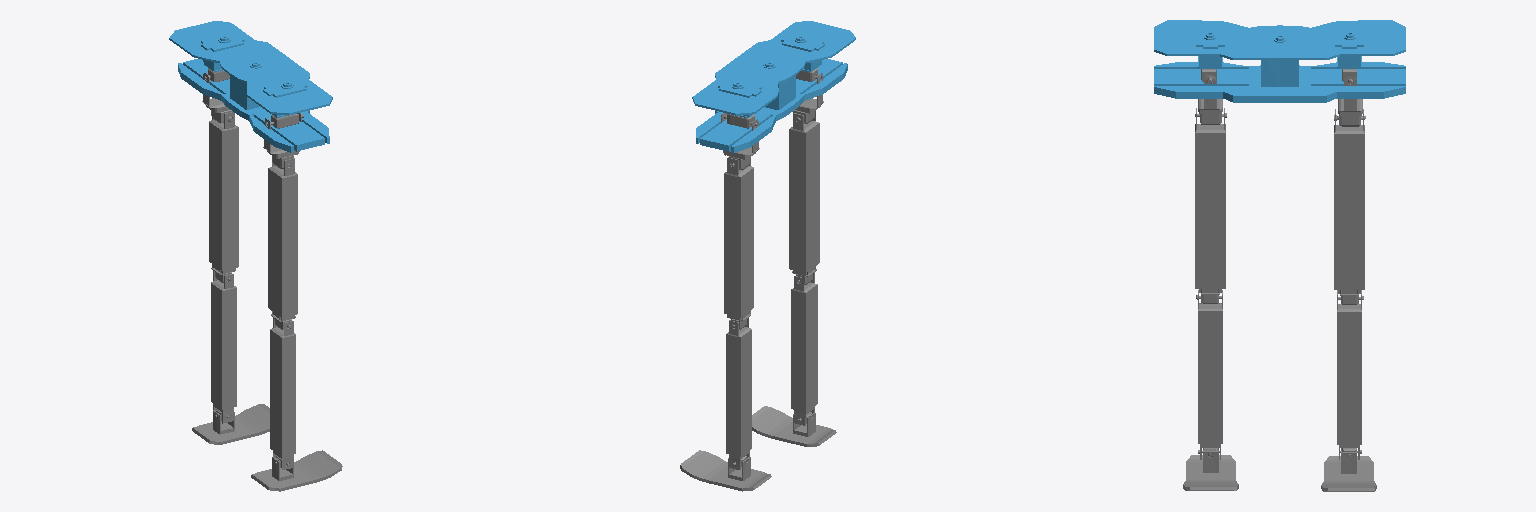
--- Facts derived from the render (not from the file) ---
Views: 3 orthographic renders of the robot side by side, from view 1: azimuth 30°, elevation 25°; view 2: azimuth 150°, elevation 25°; view 3: azimuth 270°, elevation 25°.
Robot: AmirMmv_BipedRobot_pkg — 17 links, 16 joints (10 revolute, 6 fixed); root link base_link; default pose: every joint at zero.
Links seen in each view (by area): view 1: base_footprint, r_hip_pitch_link, l_hip_pitch_link, l_knee_pitch_link, r_knee_pitch_link, r_ankle_roll_link, l_ankle_roll_link; view 2: base_footprint, r_hip_pitch_link, l_hip_pitch_link, r_knee_pitch_link, l_knee_pitch_link, l_ankle_roll_link, r_ankle_roll_link; view 3: base_footprint, r_hip_pitch_link, l_hip_pitch_link, r_knee_pitch_link, l_knee_pitch_link, l_ankle_roll_link, r_ankle_roll_link, l_hip_roll_link, r_hip_roll_link.
Link boxes in pixels (x1,y1,x2,y2): base_footprint: (169, 21, 332, 152); r_hip_pitch_link: (268, 158, 297, 329); l_hip_pitch_link: (209, 112, 238, 282); l_knee_pitch_link: (211, 271, 236, 423); r_knee_pitch_link: (270, 318, 295, 469); r_ankle_roll_link: (251, 450, 342, 491); l_ankle_roll_link: (192, 404, 269, 444); base_footprint: (692, 21, 855, 152); r_hip_pitch_link: (789, 111, 819, 284); l_hip_pitch_link: (724, 157, 753, 329); r_knee_pitch_link: (791, 273, 817, 425); l_knee_pitch_link: (726, 318, 751, 469); l_ankle_roll_link: (680, 450, 771, 491); r_ankle_roll_link: (752, 406, 836, 446); base_footprint: (1154, 20, 1405, 102); r_hip_pitch_link: (1195, 108, 1225, 303); l_hip_pitch_link: (1334, 109, 1364, 304); r_knee_pitch_link: (1198, 290, 1222, 459); l_knee_pitch_link: (1337, 290, 1361, 459); l_ankle_roll_link: (1321, 448, 1376, 491); r_ankle_roll_link: (1183, 448, 1238, 490); l_hip_roll_link: (1334, 77, 1365, 126); r_hip_roll_link: (1195, 75, 1226, 124).
Size in the robot's own frame: 0.1865 by 0.4313 by 0.8294 metres.
13 mesh visuals loaded from 13 distinct referenced files (13 binary STL).

The robot description file, URDF, robot "AmirMmv_BipedRobot_pkg":
<?xml version="1.0" ?>
<!-- =================================================================================== -->
<!-- |    This document was autogenerated by xacro from main_urdf.xacro                | -->
<!-- |    EDITING THIS FILE BY HAND IS NOT RECOMMENDED                                 | -->
<!-- =================================================================================== -->
<robot name="AmirMmv_BipedRobot_pkg">
  <material name="black">
    <color rgba="0.0 0.0 0.0 1.0"/>
  </material>
  <material name="blue">
    <color rgba="0.0 0.0 0.8 1.0"/>
  </material>
  <material name="green">
    <color rgba="0.0 0.8 0.0 1.0"/>
  </material>
  <material name="grey">
    <color rgba="0.6 0.6 0.6 1.0"/>
  </material>
  <material name="orange">
    <color rgba="1.0 0.4235294117647059 0.0392156862745098 1.0"/>
  </material>
  <material name="brown">
    <color rgba="0.8705882352941177 0.8117647058823529 0.7647058823529411 1.0"/>
  </material>
  <material name="red">
    <color rgba="0.8 0.0 0.0 1.0"/>
  </material>
  <material name="white">
    <color rgba="1.0 1.0 1.0 1.0"/>
  </material>
  <!-- ros_control plugin -->
  <gazebo>
    <plugin filename="libgazebo_ros_control.so" name="gazebo_ros_control">
      <robotNamespace>/amirmmv_bipedrobot_ns</robotNamespace>
    </plugin>
  </gazebo>
  <gazebo>
    <plugin filename="libgazebo_ros_p3d.so" name="ground_truth">
      <frameName>map</frameName>
      <bodyName>base_link</bodyName>
      <topicName>/amirmmv_bipedrobot_ns/odom</topicName>
      <updateRate>100.0</updateRate>
    </plugin>
  </gazebo>
  <!-- imu sensor -->
  <gazebo reference="imu_link">
    <gravity>true</gravity>
    <sensor name="imu_sensor" type="imu">
      <always_on>true</always_on>
      <update_rate>100</update_rate>
      <visualize>true</visualize>
      <topic>/amirmmv_bipedrobot_ns/Mysensor/imu</topic>
      <plugin filename="libgazebo_ros_imu_sensor.so" name="imu_plugin">
        <topicName>/amirmmv_bipedrobot_ns/Mysensor/imu</topicName>
        <bodyName>imu_link</bodyName>
        <updateRateHZ>10.0</updateRateHZ>
        <gaussianNoise>0.0</gaussianNoise>
        <xyzOffset>0 0 0</xyzOffset>
        <rpyOffset>0 0 0</rpyOffset>
        <frameName>imu_link</frameName>
      </plugin>
      <pose>0 0 0 0 0 0</pose>
    </sensor>
  </gazebo>
  <!-- World -->
  <gazebo reference="world"/>
  <!-- Map -->
  <gazebo reference="map"/>
  <!-- Base -->
  <gazebo reference="base_link"/>
  <!-- IMU -->
  <gazebo reference="imu_link"/>
  <!-- Body-->
  <gazebo reference="base_footprint">
    <mu1>0.2</mu1>
    <mu2>0.2</mu2>
    <material>Gazebo/Red</material>
    <selfCollide>false</selfCollide>
  </gazebo>
  <!-- Left Leg -->
  <gazebo reference="l_hip_yaw_link">
    <mu1>0.2</mu1>
    <mu2>0.2</mu2>
    <material>Gazebo/Grey</material>
    <selfCollide>false</selfCollide>
  </gazebo>
  <gazebo reference="l_hip_roll_link">
    <mu1>0.2</mu1>
    <mu2>0.2</mu2>
    <material>Gazebo/Grey</material>
    <selfCollide>false</selfCollide>
  </gazebo>
  <gazebo reference="l_hip_pitch_link">
    <mu1>0.2</mu1>
    <mu2>0.2</mu2>
    <material>Gazebo/Grey</material>
    <selfCollide>false</selfCollide>
  </gazebo>
  <gazebo reference="l_knee_pitch_link">
    <mu1>0.2</mu1>
    <mu2>0.2</mu2>
    <material>Gazebo/Grey</material>
    <selfCollide>false</selfCollide>
  </gazebo>
  <gazebo reference="l_ankle_pitch_link">
    <mu1>0.2</mu1>
    <mu2>0.2</mu2>
    <material>Gazebo/Blue</material>
    <selfCollide>false</selfCollide>
  </gazebo>
  <gazebo reference="l_ankle_roll_link">
    <!--  Edited -->
    <kp>100000.0</kp>
    <kd>100.0</kd>
    <collision names="collision_l_ankle_roll_link">
      <surface>
        <friction>
          <ode>
            <mu>0.7</mu>
            <mu2>0.7</mu2>
          </ode>
        </friction>
      </surface>
    </collision>
    <!--  Edited <mu1>1.5</mu1> -->
    <!--  Edited <mu2>1.5</mu2> -->
    <!--<maxContacts>30</maxContacts>-->
    <fdir1>1 1 0</fdir1>
    <maxVel>1.0</maxVel>
    <minDepth>0.001</minDepth>
    <material>Gazebo/Red</material>
  </gazebo>
  <!-- Right Leg -->
  <gazebo reference="r_hip_yaw_link">
    <mu1>0.2</mu1>
    <mu2>0.2</mu2>
    <material>Gazebo/Grey</material>
    <selfCollide>false</selfCollide>
  </gazebo>
  <gazebo reference="r_hip_roll_link">
    <mu1>0.2</mu1>
    <mu2>0.2</mu2>
    <material>Gazebo/Grey</material>
    <selfCollide>false</selfCollide>
  </gazebo>
  <gazebo reference="r_hip_pitch_link">
    <mu1>0.2</mu1>
    <mu2>0.2</mu2>
    <material>Gazebo/Grey</material>
    <selfCollide>false</selfCollide>
  </gazebo>
  <gazebo reference="r_knee_pitch_link">
    <mu1>0.2</mu1>
    <mu2>0.2</mu2>
    <material>Gazebo/Grey</material>
    <selfCollide>false</selfCollide>
  </gazebo>
  <gazebo reference="r_ankle_pitch_link">
    <mu1>0.2</mu1>
    <mu2>0.2</mu2>
    <material>Gazebo/Blue</material>
    <selfCollide>false</selfCollide>
  </gazebo>
  <gazebo reference="r_ankle_roll_link">
    <collision names="collision_l_ankle_roll_link">
      <surface>
        <friction>
          <ode>
            <mu>0.7</mu>
            <mu2>0.7</mu2>
          </ode>
        </friction>
      </surface>
    </collision>
    <kp>100000.0</kp>
    <kd>100.0</kd>
    <!--  Edited <mu1>1.5</mu1> -->
    <!--  Edited <mu2>1.5</mu2> -->
    <!--<maxContacts>30</maxContacts>-->
    <fdir1>1 1 0</fdir1>
    <maxVel>1.0</maxVel>
    <minDepth>0.0001</minDepth>
    <material>Gazebo/Red</material>
  </gazebo>
  <!--   ********** Contact sensors***********    -->
  <gazebo reference="l_ankle_roll_link">
    <sensor name="contact_l_foot_Amir" type="contact">
      <alwaysOn>true</alwaysOn>
      <update_rate>20.000000</update_rate>
      <contact>
        <collision>
          <origin rpy="0 0 0" xyz="0 0 0"/>
          <geometry>
            <mesh filename="package://amirmmv_bipedrobot_pkg/meshes/l_ankle_roll.stl" scale="1 1 1"/>
          </geometry>
          <material name="grey"/>
        </collision>
        <topic>/l_foot_contact_sensor</topic>
      </contact>
      <plugin filename="libgazebo_ros_bumper.so" name="gazebo_ros_bumper_controller">
        <bumperTopicName>l_bumper_topic</bumperTopicName>
        <frameName>l_frameName</frameName>
      </plugin>
    </sensor>
  </gazebo>
  <gazebo reference="r_ankle_roll_link">
    <sensor name="contact_r_foot_Amir" type="contact">
      <alwaysOn>true</alwaysOn>
      <selfCollide>true</selfCollide>
      <update_rate>20.000000</update_rate>
      <contact>
        <collision>
          <origin rpy="0 0 0" xyz="0 0 0"/>
          <geometry>
            <mesh filename="package://amirmmv_bipedrobot_pkg/meshes/r_ankle_pitch.stl" scale="1 1 1"/>
          </geometry>
          <material name="grey"/>
        </collision>
        <topic>/r_foot_contact_sensor</topic>
      </contact>
      <plugin filename="libgazebo_ros_bumper.so" name="gazebo_ros_bumper_controller">
        <bumperTopicName>r_bumper_topic</bumperTopicName>
        <frameName>r_frameName</frameName>
      </plugin>
    </sensor>
  </gazebo>
  <link name="base_link"/>
  <joint name="base_fixed" type="fixed">
    <origin rpy="0 0 0" xyz="0 0 0.1"/>
    <parent link="base_link"/>
    <child link="base_footprint"/>
  </joint>
  <!-- base_link -->
  <link name="base_footprint">
    <visual>
      <origin rpy="0 0 0" xyz="0 0 0"/>
      <geometry>
        <mesh filename="package://amirmmv_bipedrobot_pkg/meshes/base.stl" scale="1 1.25 1"/>
      </geometry>
      <material name="gray"/>
    </visual>
    <collision>
      <origin rpy="0 0 0" xyz="0 0 0"/>
      <geometry>
        <mesh filename="package://amirmmv_bipedrobot_pkg/meshes/base.stl" scale="1 1.25 1"/>
      </geometry>
      <material name="gray"/>
    </collision>
    <inertial>
      <origin xyz="-0.00856879 0.00000000 -0.02356598"/>
      <mass value="0.664564"/>
      <inertia ixx="0.00504324" ixy="-0.00000002" ixz="-0.00000358" iyy="0.00051942" iyz="0.00000000" izz="0.00510248"/>
    </inertial>
  </link>
  <!-- imu joint  -->
  <joint name="imu_fixed" type="fixed">
    <origin rpy="0 0 0" xyz="0 0 0.45"/>
    <parent link="base_footprint"/>
    <child link="imu_link"/>
  </joint>
  <link name="imu_link"/>
  <!-- right hip yaw joint 0.0 -0.09 -0.073 -->
  <joint name="r_hip_yaw_joint" type="fixed">
    <axis xyz="0 0 1"/>
    <origin rpy="0 0 -1.570796327" xyz="0.0 -0.09 -0.118"/>
    <parent link="base_footprint"/>
    <child link="r_hip_yaw_link"/>
    <!--            <limit effort="${dxl_effort}" lower="${-0.8}" upper="${0.8}" velocity="${dxl_speed}"/>
           <dynamics damping="0.01" friction="0.1"/>
-->
  </joint>
  <!--        <xacro:insert_transmission name="r_hip_yaw_joint"/>
-->
  <!-- right hip yaw link -->
  <link name="r_hip_yaw_link">
    <visual>
      <origin rpy="0 0 0" xyz="0 0 0"/>
      <geometry>
        <mesh filename="package://amirmmv_bipedrobot_pkg/meshes/r_hip_yaw.stl" scale="1 1 1"/>
      </geometry>
      <material name="grey"/>
    </visual>
    <collision>
      <origin rpy="0 0 0" xyz="0 0 0"/>
      <geometry>
        <mesh filename="package://amirmmv_bipedrobot_pkg/meshes/r_hip_yaw.stl" scale="1 1 1"/>
      </geometry>
      <material name="grey"/>
    </collision>
    <inertial>
      <origin xyz="0.00000000 -0.01999 -0.00735017"/>
      <mass value="0.090718"/>
      <inertia ixx="0.00014114" ixy="0.00000000" ixz="0.00000000" iyy="0.00002016" iyz="0.00000000" izz="0.00014272"/>
    </inertial>
  </link>
  <!-- right hip roll joint 0.0285 0.005 0.0487 -->
  <joint name="r_hip_roll_joint" type="revolute">
    <axis xyz="0 0 1"/>
    <origin rpy="1.570796327 0 3.141592654" xyz="0.0285 -0.005 0.0537"/>
    <parent link="r_hip_yaw_link"/>
    <child link="r_hip_roll_link"/>
    <limit effort="10" lower="-0.5" upper="0.5" velocity="2"/>
    <dynamics damping="0.01" friction="0.1"/>
  </joint>
  <transmission name="r_hip_roll_joint_tran">
    <type>transmission_interface/SimpleTransmission</type>
    <joint name="r_hip_roll_joint">
      <hardwareInterface>hardware_interface/EffortJointInterface</hardwareInterface>
    </joint>
    <actuator name="r_hip_roll_joint_motor">
      <hardwareInterface>EffortJointInterface</hardwareInterface>
      <mechanicalReduction>1</mechanicalReduction>
    </actuator>
  </transmission>
  <!-- right hip roll link -->
  <link name="r_hip_roll_link">
    <visual>
      <origin rpy="0 0 0" xyz="0 0 0"/>
      <geometry>
        <mesh filename="package://amirmmv_bipedrobot_pkg/meshes/r_hip_roll.stl" scale="1 1 1"/>
      </geometry>
      <material name="grey"/>
    </visual>
    <collision>
      <origin rpy="0 0 0" xyz="0 0 0"/>
      <geometry>
        <mesh filename="package://amirmmv_bipedrobot_pkg/meshes/r_hip_roll.stl" scale="1 1 1"/>
      </geometry>
      <material name="grey"/>
    </collision>
    <inertial>
      <origin xyz="-0.00005878 -0.01433229 -0.01958936"/>
      <mass value="0.342"/>
      <inertia ixx="0.00033963" ixy="0.00000054" ixz="-0.00000042" iyy="0.00029059" iyz="0.00001145" izz="0.00015024"/>
    </inertial>
  </link>
  <!-- right hip pitch joint 0 -0.084 0.0060 -->
  <joint name="r_hip_pitch_joint" type="revolute">
    <axis xyz="0 0 1"/>
    <origin rpy="-1.570796327 0 -1.570796327" xyz="0 -0.084 0.0000"/>
    <parent link="r_hip_roll_link"/>
    <child link="r_hip_pitch_link"/>
    <limit effort="10" lower="-1.396" upper="1.396" velocity="2"/>
    <dynamics damping="0.01" friction="0.1"/>
  </joint>
  <transmission name="r_hip_pitch_joint_tran">
    <type>transmission_interface/SimpleTransmission</type>
    <joint name="r_hip_pitch_joint">
      <hardwareInterface>hardware_interface/EffortJointInterface</hardwareInterface>
    </joint>
    <actuator name="r_hip_pitch_joint_motor">
      <hardwareInterface>EffortJointInterface</hardwareInterface>
      <mechanicalReduction>1</mechanicalReduction>
    </actuator>
  </transmission>
  <!-- right hip pitch link -->
  <link name="r_hip_pitch_link">
    <visual>
      <origin rpy="0 0 0" xyz="0 0 0"/>
      <geometry>
        <mesh filename="package://amirmmv_bipedrobot_pkg/meshes/r_hip_pitch.stl" scale="1 1 1"/>
      </geometry>
      <material name="grey"/>
    </visual>
    <collision>
      <origin rpy="0 0 0" xyz="0 0 0"/>
      <geometry>
        <mesh filename="package://amirmmv_bipedrobot_pkg/meshes/r_hip_pitch.stl" scale="1 1 1"/>
      </geometry>
      <material name="grey"/>
    </collision>
    <inertial>
      <origin xyz="0.21422113 0.0 0.0"/>
      <mass value="0.33732478"/>
      <inertia ixx="0.00012533" ixy="0.00000000" ixz="0.00000079" iyy="0.00295762" iyz="0.00000000" izz="0.00291401"/>
    </inertial>
  </link>
  <!-- right knee pitch joint 0.34 0 0 -->
  <joint name="r_knee_pitch_joint" type="revolute">
    <axis xyz="0 0 1"/>
    <origin rpy="0 0 0" xyz="0.34 0 0"/>
    <parent link="r_hip_pitch_link"/>
    <child link="r_knee_pitch_link"/>
    <limit effort="10" lower="0.0" upper="1.4" velocity="2"/>
    <dynamics damping="0.01" friction="0.1"/>
  </joint>
  <transmission name="r_knee_pitch_joint_tran">
    <type>transmission_interface/SimpleTransmission</type>
    <joint name="r_knee_pitch_joint">
      <hardwareInterface>hardware_interface/EffortJointInterface</hardwareInterface>
    </joint>
    <actuator name="r_knee_pitch_joint_motor">
      <hardwareInterface>EffortJointInterface</hardwareInterface>
      <mechanicalReduction>1</mechanicalReduction>
    </actuator>
  </transmission>
  <!-- right knee pitch link -->
  <link name="r_knee_pitch_link">
    <visual>
      <origin rpy="0 0 0" xyz="0 0 0"/>
      <geometry>
        <mesh filename="package://amirmmv_bipedrobot_pkg/meshes/r_knee_pitch.stl" scale="1 1 1"/>
      </geometry>
      <material name="grey"/>
    </visual>
    <collision>
      <origin rpy="0 0 0" xyz="0 0 0"/>
      <geometry>
        <mesh filename="package://amirmmv_bipedrobot_pkg/meshes/r_knee_pitch.stl" scale="1 1 1"/>
      </geometry>
      <material name="grey"/>
    </collision>
    <inertial>
      <origin xyz="0.16288151 0.00000000 0.00000000"/>
      <mass value="0.15100000"/>
      <inertia ixx="0.0000634" ixy="0.0" ixz="0.0" iyy="0.00139615" iyz="0.0" izz="0.00136734"/>
    </inertial>
  </link>
  <!-- right ankle pitch joint 0.28 0 0 -->
  <joint name="r_ankle_pitch_joint" type="revolute">
    <axis xyz="0 0 1"/>
    <origin rpy="0 0 0" xyz="0.3 0 0"/>
    <parent link="r_knee_pitch_link"/>
    <child link="r_ankle_pitch_link"/>
    <limit effort="10" lower="-0.349" upper="1.047" velocity="2"/>
    <dynamics damping="0.01" friction="0.1"/>
  </joint>
  <transmission name="r_ankle_pitch_joint_tran">
    <type>transmission_interface/SimpleTransmission</type>
    <joint name="r_ankle_pitch_joint">
      <hardwareInterface>hardware_interface/EffortJointInterface</hardwareInterface>
    </joint>
    <actuator name="r_ankle_pitch_joint_motor">
      <hardwareInterface>EffortJointInterface</hardwareInterface>
      <mechanicalReduction>1</mechanicalReduction>
    </actuator>
  </transmission>
  <!-- right ankle pitch link -->
  <link name="r_ankle_pitch_link">
    <visual>
      <origin rpy="0 0 0" xyz="0 0 0"/>
      <geometry>
        <mesh filename="package://amirmmv_bipedrobot_pkg/meshes/r_ankle_pitch.stl" scale="1 1 1"/>
      </geometry>
      <material name="grey"/>
    </visual>
    <collision>
      <origin rpy="0 0 0" xyz="0 0 0"/>
      <geometry>
        <mesh filename="package://amirmmv_bipedrobot_pkg/meshes/r_ankle_pitch.stl" scale="1 1 1"/>
      </geometry>
      <material name="grey"/>
    </collision>
    <inertial>
      <origin xyz="-0.01433229 0.01958936 0.00005878"/>
      <mass value="0.342"/>
      <inertia ixx="0.00029059" ixy="-0.00001145" ixz="-0.00000054" iyy="0.00015024" iyz="-0.00000042" izz="0.00033963"/>
    </inertial>
  </link>
  <!-- right ankle roll  0.01 0 0 -->
  <joint name="r_ankle_roll_joint" type="revolute">
    <axis xyz="0 0 1"/>
    <origin rpy="1.570796327 0 0" xyz="-0.01 0 0"/>
    <parent link="r_ankle_pitch_link"/>
    <child link="r_ankle_roll_link"/>
    <limit effort="10" lower="-0.5" upper="0.5" velocity="2"/>
    <dynamics damping="0.01" friction="0.1"/>
  </joint>
  <transmission name="r_ankle_roll_joint_tran">
    <type>transmission_interface/SimpleTransmission</type>
    <joint name="r_ankle_roll_joint">
      <hardwareInterface>hardware_interface/EffortJointInterface</hardwareInterface>
    </joint>
    <actuator name="r_ankle_roll_joint_motor">
      <hardwareInterface>EffortJointInterface</hardwareInterface>
      <mechanicalReduction>1</mechanicalReduction>
    </actuator>
  </transmission>
  <!-- right ankle roll link -->
  <link name="r_ankle_roll_link">
    <visual>
      <origin rpy="0 0 0" xyz="0 0 0"/>
      <geometry>
        <mesh filename="package://amirmmv_bipedrobot_pkg/meshes/r_ankle_roll.stl" scale="1 1 1"/>
      </geometry>
      <material name="grey"/>
    </visual>
    <collision>
      <origin rpy="0 0 0" xyz="0 0 0"/>
      <geometry>
        <mesh filename="package://amirmmv_bipedrobot_pkg/meshes/r_ankle_roll.stl" scale="1 1 1"/>
      </geometry>
      <material name="grey"/>
    </collision>
    <inertial>
      <origin xyz="0.03627101 -0.00000116 0.00053793"/>
      <mass value="0.155"/>
      <inertia ixx="0.00052206" ixy="0" ixz="0.00001" iyy="0.00047025" iyz="0" izz="0.00009087"/>
    </inertial>
  </link>
  <!-- right ft fixed joint -->
  <joint name="r_ft_fixed" type="fixed">
    <origin rpy="0 -1.570796327 0" xyz="0.045 0.0 0.0"/>
    <parent link="r_ankle_roll_link"/>
    <child link="r_foot_ft_link"/>
  </joint>
  <!-- right foot ft link -->
  <link name="r_foot_ft_link"/>
  <!-- left hip yaw joint -->
  <joint name="l_hip_yaw_joint" type="fixed">
    <axis xyz="0 0 1"/>
    <origin rpy="0 0 1.570796327" xyz="0.0 0.09 -0.108"/>
    <parent link="base_footprint"/>
    <child link="l_hip_yaw_link"/>
  </joint>
  <!-- left hip yaw link -->
  <link name="l_hip_yaw_link">
    <visual>
      <origin rpy="0 0 0" xyz="0 0 0"/>
      <geometry>
        <mesh filename="package://amirmmv_bipedrobot_pkg/meshes/l_hip_yaw.stl" scale="1 1 1"/>
      </geometry>
      <material name="grey"/>
    </visual>
    <collision>
      <origin rpy="0 0 0" xyz="0 0 0"/>
      <geometry>
        <mesh filename="package://amirmmv_bipedrobot_pkg/meshes/l_hip_yaw.stl" scale="1 1 1"/>
      </geometry>
      <material name="grey"/>
    </collision>
    <inertial>
      <origin xyz="0 0.01999 -0.00735017"/>
      <mass value="0.090718"/>
      <inertia ixx="0.00014114" ixy="0.0" ixz="0.0" iyy="0.00002016" iyz="0.0" izz="0.00014272"/>
    </inertial>
  </link>
  <!-- left hip roll joint-->
  <joint name="l_hip_roll_joint" type="revolute">
    <axis xyz="0 0 1"/>
    <origin rpy="1.570796327 0 0" xyz="0.0285 0.005 0.0450"/>
    <parent link="l_hip_yaw_link"/>
    <child link="l_hip_roll_link"/>
    <limit effort="10" lower="-0.5" upper="0.5" velocity="2"/>
    <dynamics damping="0.01" friction="0.1"/>
  </joint>
  <transmission name="l_hip_roll_joint_tran">
    <type>transmission_interface/SimpleTransmission</type>
    <joint name="l_hip_roll_joint">
      <hardwareInterface>hardware_interface/EffortJointInterface</hardwareInterface>
    </joint>
    <actuator name="l_hip_roll_joint_motor">
      <hardwareInterface>EffortJointInterface</hardwareInterface>
      <mechanicalReduction>1</mechanicalReduction>
    </actuator>
  </transmission>
  <!-- left hip roll link -->
  <link name="l_hip_roll_link">
    <visual>
      <origin rpy="0 0 0" xyz="0 0 0"/>
      <geometry>
        <mesh filename="package://amirmmv_bipedrobot_pkg/meshes/l_hip_roll.stl" scale="1 1 1"/>
      </geometry>
      <material name="grey"/>
    </visual>
    <collision>
      <origin rpy="0 0 0" xyz="0 0 0"/>
      <geometry>
        <mesh filename="package://amirmmv_bipedrobot_pkg/meshes/l_hip_roll.stl" scale="1 1 1"/>
      </geometry>
      <material name="grey"/>
    </collision>
    <inertial>
      <origin xyz="-0.00005878 -0.01433229 -0.01958936"/>
      <mass value="0.342"/>
      <inertia ixx="0.00033963" ixy="0.00000054" ixz="-0.00000042" iyy="0.00029059" iyz="0.00001145" izz="0.00015024"/>
    </inertial>
  </link>
  <!-- left hip pitch joint -->
  <joint name="l_hip_pitch_joint" type="revolute">
    <axis xyz="0 0 1"/>
    <origin rpy="-1.570796327 0 -1.570796327" xyz="0 -0.084 0.0060"/>
    <parent link="l_hip_roll_link"/>
    <child link="l_hip_pitch_link"/>
    <limit effort="10" lower="-1.396" upper="1.396" velocity="2"/>
    <dynamics damping="0.01" friction="0.1"/>
  </joint>
  <transmission name="l_hip_pitch_joint_tran">
    <type>transmission_interface/SimpleTransmission</type>
    <joint name="l_hip_pitch_joint">
      <hardwareInterface>hardware_interface/EffortJointInterface</hardwareInterface>
    </joint>
    <actuator name="l_hip_pitch_joint_motor">
      <hardwareInterface>EffortJointInterface</hardwareInterface>
      <mechanicalReduction>1</mechanicalReduction>
    </actuator>
  </transmission>
  <!-- left hip pitch link -->
  <link name="l_hip_pitch_link">
    <visual>
      <origin rpy="0 0 0" xyz="0 0 0"/>
      <geometry>
        <mesh filename="package://amirmmv_bipedrobot_pkg/meshes/l_hip_pitch.stl" scale="1 1 1"/>
      </geometry>
      <material name="grey"/>
    </visual>
    <collision>
      <origin rpy="0 0 0" xyz="0 0 0"/>
      <geometry>
        <mesh filename="package://amirmmv_bipedrobot_pkg/meshes/l_hip_pitch.stl" scale="1 1 1"/>
      </geometry>
      <material name="grey"/>
    </collision>
    <inertial>
      <origin xyz="0.21422113 0.00000000 0.00000000"/>
      <mass value="0.33732478"/>
      <inertia ixx="0.00012533" ixy="0.00000000" ixz="0.00000079" iyy="0.00295762" iyz="0.00000000" izz="0.00291401"/>
    </inertial>
  </link>
  <!-- left knee pitch joint -->
  <joint name="l_knee_pitch_joint" type="revolute">
    <axis xyz="0 0 1"/>
    <origin rpy="0 0 0" xyz="0.34 0 0"/>
    <parent link="l_hip_pitch_link"/>
    <child link="l_knee_pitch_link"/>
    <limit effort="10" lower="0" upper="1.4" velocity="2"/>
    <dynamics damping="0.01" friction="0.1"/>
  </joint>
  <transmission name="l_knee_pitch_joint_tran">
    <type>transmission_interface/SimpleTransmission</type>
    <joint name="l_knee_pitch_joint">
      <hardwareInterface>hardware_interface/EffortJointInterface</hardwareInterface>
    </joint>
    <actuator name="l_knee_pitch_joint_motor">
      <hardwareInterface>EffortJointInterface</hardwareInterface>
      <mechanicalReduction>1</mechanicalReduction>
    </actuator>
  </transmission>
  <!-- left knee pitch link -->
  <link name="l_knee_pitch_link">
    <visual>
      <origin rpy="0 0 0" xyz="0 0 0"/>
      <geometry>
        <mesh filename="package://amirmmv_bipedrobot_pkg/meshes/l_knee_pitch.stl" scale="1 1 1"/>
      </geometry>
      <material name="grey"/>
    </visual>
    <collision>
      <origin rpy="0 0 0" xyz="0 0 0"/>
      <geometry>
        <mesh filename="package://amirmmv_bipedrobot_pkg/meshes/l_knee_pitch.stl" scale="1 1 1"/>
      </geometry>
      <material name="grey"/>
    </collision>
    <inertial>
      <origin xyz="0.16288151 0.00000000 0.00000000"/>
      <mass value="0.15100000"/>
      <inertia ixx="0.0000634" ixy="0.0" ixz="0.0" iyy="0.00139615" iyz="0.0" izz="0.00136734"/>
    </inertial>
  </link>
  <!-- left ankle pitch joint -->
  <joint name="l_ankle_pitch_joint" type="revolute">
    <axis xyz="0 0 1"/>
    <origin rpy="0 0 0" xyz="0.28 0 0"/>
    <parent link="l_knee_pitch_link"/>
    <child link="l_ankle_pitch_link"/>
    <limit effort="10" lower="-0.349" upper="1.047" velocity="2"/>
    <dynamics damping="0.01" friction="0.1"/>
  </joint>
  <transmission name="l_ankle_pitch_joint_tran">
    <type>transmission_interface/SimpleTransmission</type>
    <joint name="l_ankle_pitch_joint">
      <hardwareInterface>hardware_interface/EffortJointInterface</hardwareInterface>
    </joint>
    <actuator name="l_ankle_pitch_joint_motor">
      <hardwareInterface>EffortJointInterface</hardwareInterface>
      <mechanicalReduction>1</mechanicalReduction>
    </actuator>
  </transmission>
  <!-- left ankle pitch link -->
  <link name="l_ankle_pitch_link">
    <visual>
      <origin rpy="0 0 0" xyz="0 0 0"/>
      <geometry>
        <mesh filename="package://amirmmv_bipedrobot_pkg/meshes/l_ankle_pitch.stl" scale="1 1 1"/>
      </geometry>
      <material name="grey"/>
    </visual>
    <collision>
      <origin rpy="0 0 0" xyz="0 0 0"/>
      <geometry>
        <mesh filename="package://amirmmv_bipedrobot_pkg/meshes/l_ankle_pitch.stl" scale="1 1 1"/>
      </geometry>
      <material name="grey"/>
    </collision>
    <inertial>
      <origin xyz="-0.01433229 0.01958936 0.00005878"/>
      <mass value="0.34200000"/>
      <inertia ixx="0.00029059" ixy="-0.00001145" ixz="-0.00000054" iyy="0.00015024" iyz="-0.00000042" izz="0.00033963"/>
    </inertial>
  </link>
  <!-- left ankle roll pitch -->
  <joint name="l_ankle_roll_joint" type="revolute">
    <axis xyz="0 0 1"/>
    <origin rpy="1.570796327 0 0" xyz="0.01 0 0"/>
    <parent link="l_ankle_pitch_link"/>
    <child link="l_ankle_roll_link"/>
    <limit effort="10" lower="-0.5" upper="0.5" velocity="2"/>
    <dynamics damping="0.1" friction="0.01"/>
  </joint>
  <transmission name="l_ankle_roll_joint_tran">
    <type>transmission_interface/SimpleTransmission</type>
    <joint name="l_ankle_roll_joint">
      <hardwareInterface>hardware_interface/EffortJointInterface</hardwareInterface>
    </joint>
    <actuator name="l_ankle_roll_joint_motor">
      <hardwareInterface>EffortJointInterface</hardwareInterface>
      <mechanicalReduction>1</mechanicalReduction>
    </actuator>
  </transmission>
  <!-- left ankle roll link -->
  <link name="l_ankle_roll_link">
    <visual>
      <origin rpy="0 0 0" xyz="0 0 0"/>
      <geometry>
        <mesh filename="package://amirmmv_bipedrobot_pkg/meshes/l_ankle_roll.stl" scale="1 1 1"/>
      </geometry>
      <material name="grey"/>
    </visual>
    <collision>
      <origin rpy="0 0 0" xyz="0 0 0"/>
      <geometry>
        <mesh filename="package://amirmmv_bipedrobot_pkg/meshes/l_ankle_roll.stl" scale="1 1 1"/>
      </geometry>
      <material name="grey"/>
    </collision>
    <inertial>
      <origin xyz="0.03627101 -0.00000116 0.00053793"/>
      <mass value="0.155"/>
      <inertia ixx="0.00052206" ixy="0.000000" ixz="0.00001" iyy="0.00047025" iyz="0" izz="0.00009087"/>
    </inertial>
  </link>
  <!-- left ft fixed joint -->
  <joint name="l_ft_fixed" type="fixed">
    <origin rpy="0 -1.570796327 0" xyz="0.045 0.0 0.0"/>
    <parent link="l_ankle_roll_link"/>
    <child link="l_foot_ft_link"/>
  </joint>
  <!-- left foot ft link -->
  <link name="l_foot_ft_link">
         </link>
</robot>
